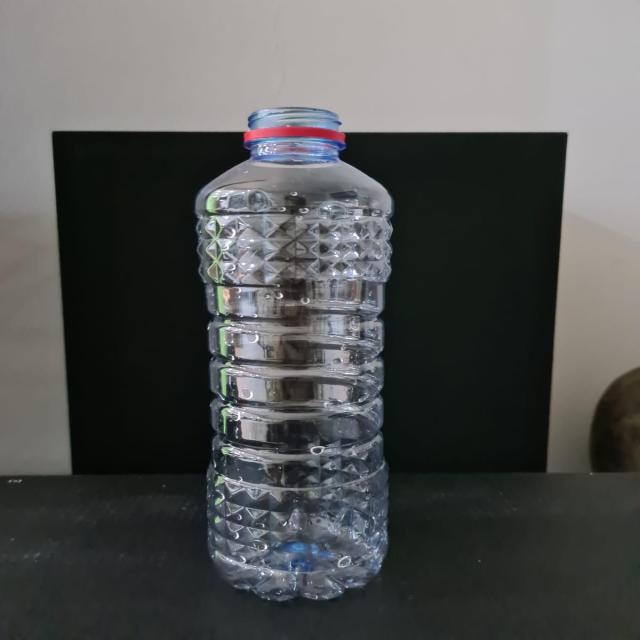bottle: (166, 94, 448, 606)
